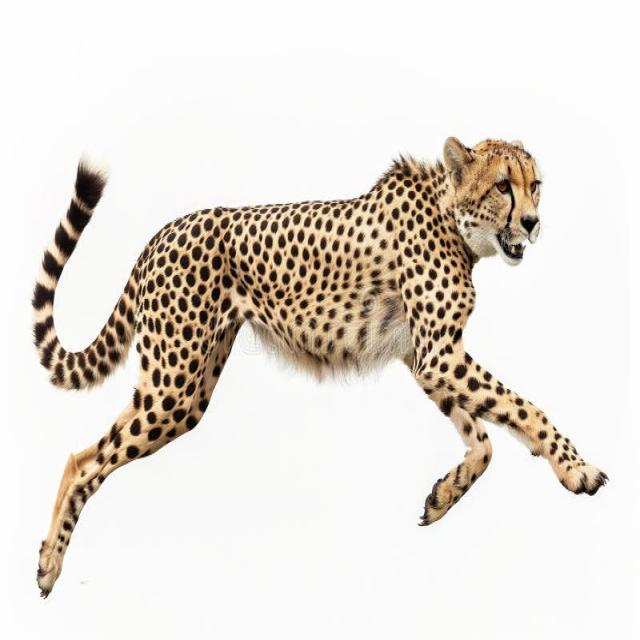Cheetah: (29, 124, 612, 606)
